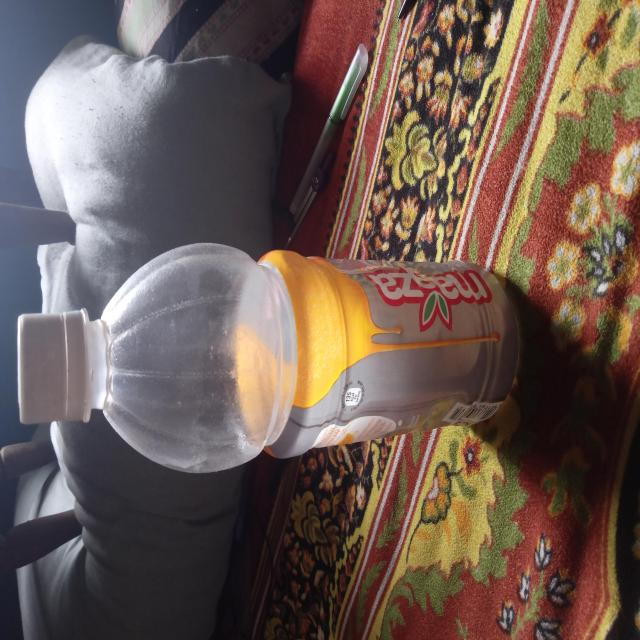bottle: (14, 240, 526, 479)
